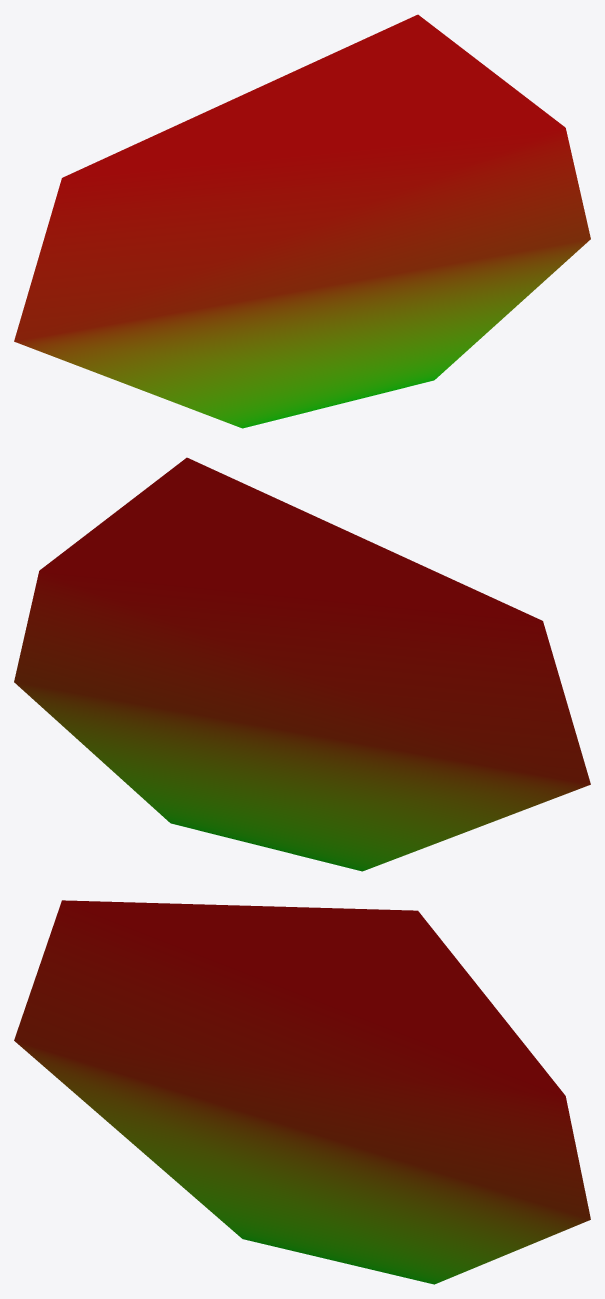
Rendered from Var9_LOD4.fbx.
3 views of the same model, one above another, from view 1: azimuth 30°, elevation 25°; view 2: azimuth 150°, elevation 25°; view 3: azimuth 330°, elevation 25° (orthographic).
Visible parts, largest first — view 1: _efdj_Var9_LOD4; view 2: _efdj_Var9_LOD4; view 3: _efdj_Var9_LOD4.
Boxes of the visible parts, x1,y1,x2,y2 form: _efdj_Var9_LOD4: (14,14,590,428); _efdj_Var9_LOD4: (14,457,590,871); _efdj_Var9_LOD4: (14,900,590,1284).
Size of the model in its own units: 20.78 by 12.78 by 5.58e-07.
